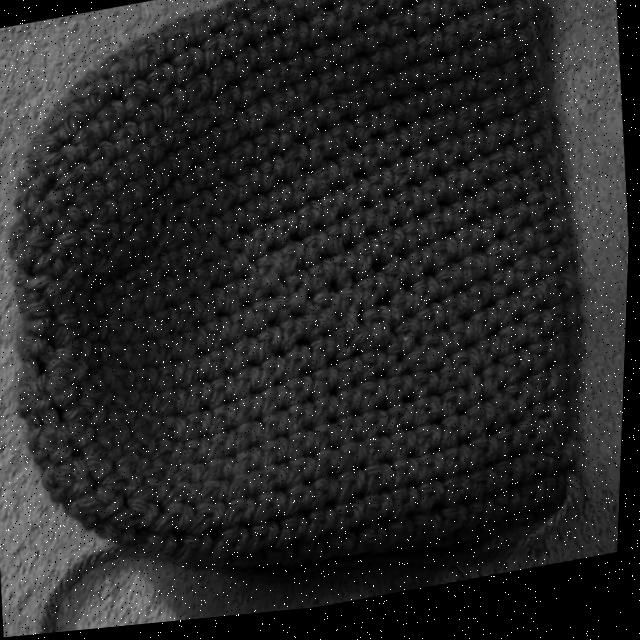sc: (45, 96, 97, 141), (64, 272, 107, 316), (247, 8, 294, 48), (48, 259, 86, 307), (495, 29, 536, 73), (63, 230, 105, 272), (56, 457, 97, 500), (202, 62, 247, 101), (513, 132, 550, 179), (333, 323, 374, 364), (500, 57, 539, 100), (49, 374, 87, 418), (128, 497, 174, 533), (231, 167, 272, 207), (68, 408, 103, 454), (384, 163, 425, 202), (244, 100, 281, 143), (196, 502, 240, 538), (80, 487, 128, 520), (215, 528, 261, 562), (526, 186, 560, 232), (307, 13, 346, 53), (382, 262, 420, 303), (511, 106, 546, 150), (332, 7, 372, 45), (161, 504, 210, 535), (35, 187, 72, 228), (282, 146, 322, 183), (490, 7, 530, 44), (520, 159, 555, 201), (87, 72, 121, 115), (508, 80, 542, 123), (131, 40, 168, 79), (421, 339, 460, 376), (172, 48, 213, 83), (358, 22, 393, 63), (33, 243, 75, 277), (227, 143, 265, 180), (426, 213, 465, 249), (490, 153, 529, 189), (355, 244, 390, 284), (358, 277, 398, 312), (460, 17, 500, 52), (307, 514, 349, 547), (91, 224, 134, 256), (257, 329, 294, 366), (196, 131, 233, 168), (192, 103, 229, 140), (287, 53, 324, 90), (362, 382, 400, 418), (489, 273, 525, 311), (40, 423, 75, 462), (534, 216, 567, 257), (539, 246, 572, 287), (57, 164, 93, 201), (214, 85, 250, 122), (225, 23, 262, 59), (406, 252, 442, 289), (315, 427, 353, 462), (336, 361, 374, 396), (342, 182, 376, 221), (256, 496, 298, 527), (236, 423, 272, 459), (252, 132, 288, 168), (503, 359, 539, 395), (527, 318, 563, 354), (211, 405, 248, 440), (380, 133, 417, 168), (437, 271, 472, 308), (204, 249, 238, 287), (262, 63, 300, 97), (473, 74, 511, 108), (102, 160, 135, 199), (337, 507, 376, 540), (389, 379, 428, 412), (339, 422, 379, 454), (483, 127, 523, 159), (225, 238, 256, 279), (132, 103, 163, 144), (219, 114, 250, 155), (202, 36, 237, 72), (287, 350, 322, 386), (366, 174, 401, 210), (520, 426, 555, 462), (277, 119, 314, 153), (40, 145, 78, 178), (72, 121, 104, 160), (439, 172, 471, 211), (75, 180, 106, 220), (362, 357, 402, 388), (325, 224, 360, 259), (198, 219, 233, 254), (240, 74, 275, 109), (312, 341, 347, 376), (351, 214, 386, 249), (270, 92, 305, 127), (185, 10, 220, 45), (498, 467, 533, 502), (171, 115, 205, 151), (364, 312, 400, 346), (281, 28, 317, 62), (338, 36, 374, 70), (379, 234, 412, 271), (297, 110, 334, 143), (448, 328, 485, 361), (514, 265, 551, 298), (159, 87, 188, 129), (263, 468, 305, 497), (478, 101, 516, 133), (492, 183, 530, 215), (52, 350, 91, 381), (146, 63, 176, 103), (263, 441, 303, 471), (339, 477, 379, 507), (389, 410, 429, 440), (243, 198, 278, 232), (233, 341, 268, 375), (248, 526, 283, 560), (310, 137, 345, 171), (360, 145, 394, 180), (443, 299, 478, 333), (108, 122, 141, 158), (318, 453, 354, 486), (257, 39, 293, 72), (336, 157, 369, 193), (344, 61, 380, 94), (476, 346, 512, 379), (549, 273, 576, 317), (212, 377, 249, 409), (500, 333, 537, 365), (412, 284, 450, 315), (304, 316, 343, 346), (388, 352, 427, 382), (282, 322, 316, 356), (233, 51, 268, 84), (291, 406, 324, 441), (280, 521, 315, 554), (421, 185, 456, 218), (529, 350, 564, 383), (314, 372, 350, 404), (290, 490, 326, 522), (161, 25, 193, 61), (292, 82, 329, 113), (469, 48, 506, 79), (271, 216, 301, 254), (314, 483, 352, 513), (364, 442, 402, 472), (312, 166, 345, 200), (394, 493, 427, 527), (418, 459, 452, 492), (406, 224, 439, 258), (522, 291, 556, 324), (524, 461, 557, 495), (87, 140, 115, 180), (114, 464, 146, 499), (368, 471, 408, 499), (389, 294, 424, 326), (412, 520, 447, 552), (497, 303, 532, 335), (410, 5, 441, 41), (333, 255, 363, 292), (315, 401, 352, 431), (304, 233, 331, 274), (289, 461, 327, 490), (396, 324, 425, 362), (328, 125, 367, 153), (443, 422, 476, 455), (207, 319, 239, 353), (321, 99, 352, 134), (290, 381, 326, 411), (322, 195, 351, 232), (471, 316, 500, 353), (342, 449, 380, 477), (257, 254, 290, 286), (164, 388, 197, 420), (112, 59, 145, 91), (449, 84, 482, 116), (500, 210, 532, 243), (546, 453, 579, 485), (283, 246, 314, 280), (285, 276, 316, 310), (469, 411, 500, 445), (454, 231, 485, 265), (147, 126, 174, 165), (491, 402, 521, 437), (198, 290, 227, 326), (105, 416, 141, 445), (291, 436, 328, 464), (437, 143, 464, 181), (415, 156, 447, 188), (495, 436, 527, 468), (397, 193, 428, 226), (359, 0, 392, 31), (482, 222, 513, 255), (508, 237, 539, 270), (188, 413, 222, 443), (473, 445, 503, 479), (408, 125, 438, 159), (419, 65, 449, 99), (238, 450, 273, 479), (266, 415, 301, 444), (395, 437, 430, 466), (416, 430, 445, 465), (431, 245, 460, 280), (290, 178, 318, 214), (234, 476, 270, 504), (155, 442, 195, 467), (238, 371, 269, 403), (182, 536, 214, 567), (55, 204, 87, 235), (104, 279, 136, 310), (86, 452, 118, 483), (315, 48, 346, 80), (188, 193, 218, 226), (111, 236, 141, 269), (365, 417, 403, 443), (83, 378, 117, 407), (486, 249, 515, 283), (161, 227, 202, 251), (164, 181, 192, 216), (263, 387, 290, 423), (360, 340, 406, 361), (298, 204, 324, 241), (186, 75, 212, 112), (396, 464, 427, 495), (522, 491, 553, 522), (116, 186, 146, 218), (122, 210, 152, 242), (237, 399, 269, 429), (367, 56, 397, 88), (375, 204, 405, 236), (532, 380, 562, 412), (339, 292, 368, 325), (474, 476, 503, 509), (221, 207, 249, 241), (173, 484, 216, 506), (309, 264, 336, 299), (449, 205, 476, 240), (250, 226, 276, 262), (126, 144, 152, 180), (161, 362, 191, 393), (342, 393, 373, 423), (352, 119, 383, 149), (212, 185, 241, 217), (96, 103, 125, 135), (430, 118, 459, 150), (445, 58, 474, 90), (213, 435, 246, 463), (77, 399, 110, 427), (58, 316, 91, 344), (95, 257, 123, 290), (326, 537, 359, 565), (419, 310, 447, 343), (177, 465, 217, 488), (137, 170, 164, 204), (418, 378, 452, 405), (188, 439, 223, 465), (497, 500, 533, 525), (555, 372, 580, 408), (366, 500, 397, 529), (136, 480, 175, 503), (66, 337, 105, 360), (305, 296, 344, 319), (348, 91, 376, 123), (462, 264, 490, 296), (153, 307, 180, 340), (210, 349, 237, 382), (426, 90, 453, 123), (157, 154, 183, 188), (94, 436, 128, 462), (437, 375, 471, 401), (232, 311, 257, 346), (170, 252, 205, 277), (255, 304, 284, 334), (317, 74, 347, 103), (417, 400, 445, 431), (372, 82, 400, 113), (452, 358, 483, 386), (268, 190, 295, 222), (181, 168, 208, 200), (358, 533, 390, 560), (439, 0, 466, 32), (553, 310, 580, 342), (260, 160, 285, 194), (207, 156, 232, 190), (231, 502, 260, 531), (395, 72, 423, 102), (468, 165, 492, 200), (130, 289, 157, 320), (122, 82, 149, 113), (443, 513, 470, 544), (392, 46, 419, 77), (387, 16, 414, 47), (418, 35, 444, 67), (481, 373, 506, 406), (226, 282, 250, 316), (178, 303, 206, 332), (132, 316, 160, 345), (127, 450, 155, 479), (447, 454, 476, 482), (399, 100, 428, 128), (263, 362, 290, 392), (448, 483, 475, 513), (535, 409, 562, 439), (189, 384, 215, 415), (84, 312, 110, 343), (388, 526, 419, 552), (178, 142, 201, 177), (468, 292, 493, 324), (463, 138, 488, 170), (554, 341, 579, 373), (148, 198, 167, 240), (108, 300, 141, 324), (208, 481, 241, 505), (134, 237, 163, 264), (377, 109, 404, 138), (454, 113, 480, 143), (184, 330, 209, 361), (196, 268, 220, 300), (172, 206, 199, 234), (470, 506, 498, 533), (442, 33, 469, 61), (473, 196, 500, 224), (188, 358, 214, 387), (174, 275, 198, 306), (443, 398, 470, 425), (249, 280, 275, 308), (127, 266, 156, 291), (153, 280, 176, 311), (422, 488, 448, 515), (139, 412, 164, 440), (213, 461, 248, 481), (150, 465, 185, 485), (88, 203, 121, 224), (148, 256, 171, 286), (159, 336, 185, 362), (135, 341, 160, 368), (111, 321, 139, 345), (233, 556, 268, 575), (114, 345, 144, 367), (92, 344, 118, 369), (508, 393, 534, 418), (163, 418, 190, 442), (301, 545, 330, 567), (134, 433, 158, 459), (139, 369, 166, 392), (115, 369, 142, 392), (115, 405, 146, 425), (463, 0, 494, 20), (560, 403, 580, 434), (277, 299, 300, 325), (387, 0, 415, 21), (89, 367, 118, 386), (268, 553, 299, 570), (139, 394, 164, 415), (490, 0, 529, 11), (117, 390, 142, 407)
